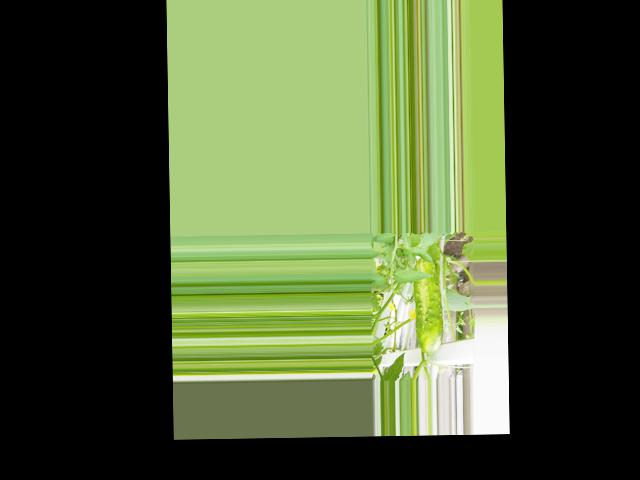cucumber: (414, 258, 443, 354)
